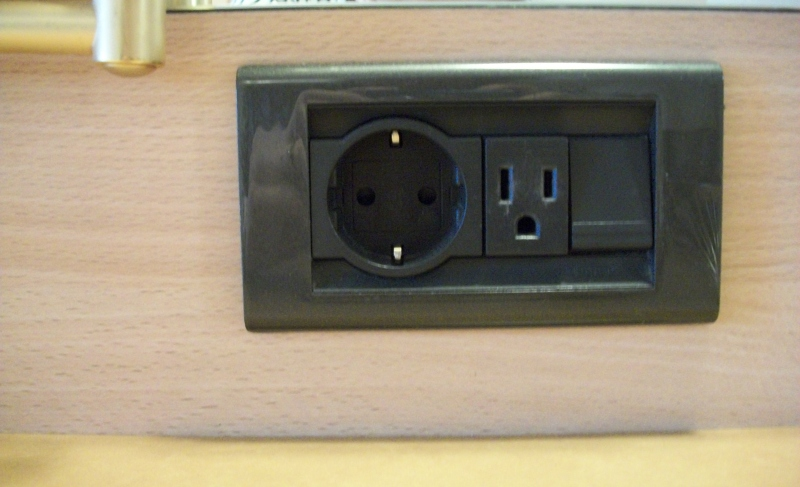outlet: (493, 157, 561, 246)
